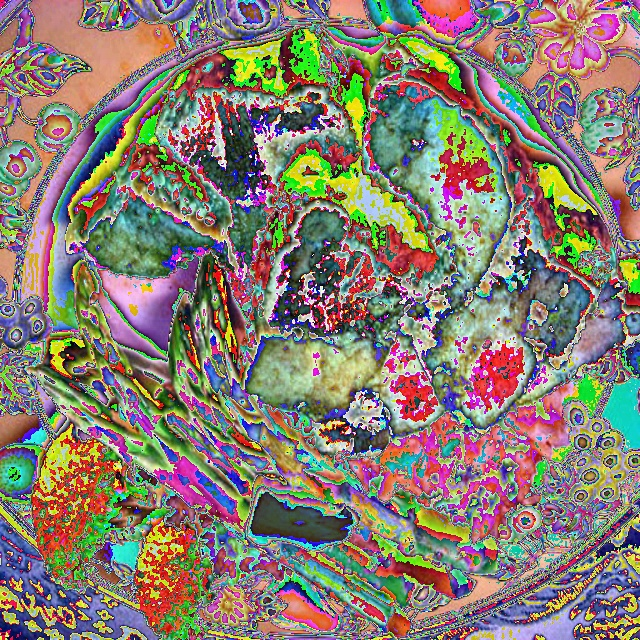background: (19, 30, 639, 639)
